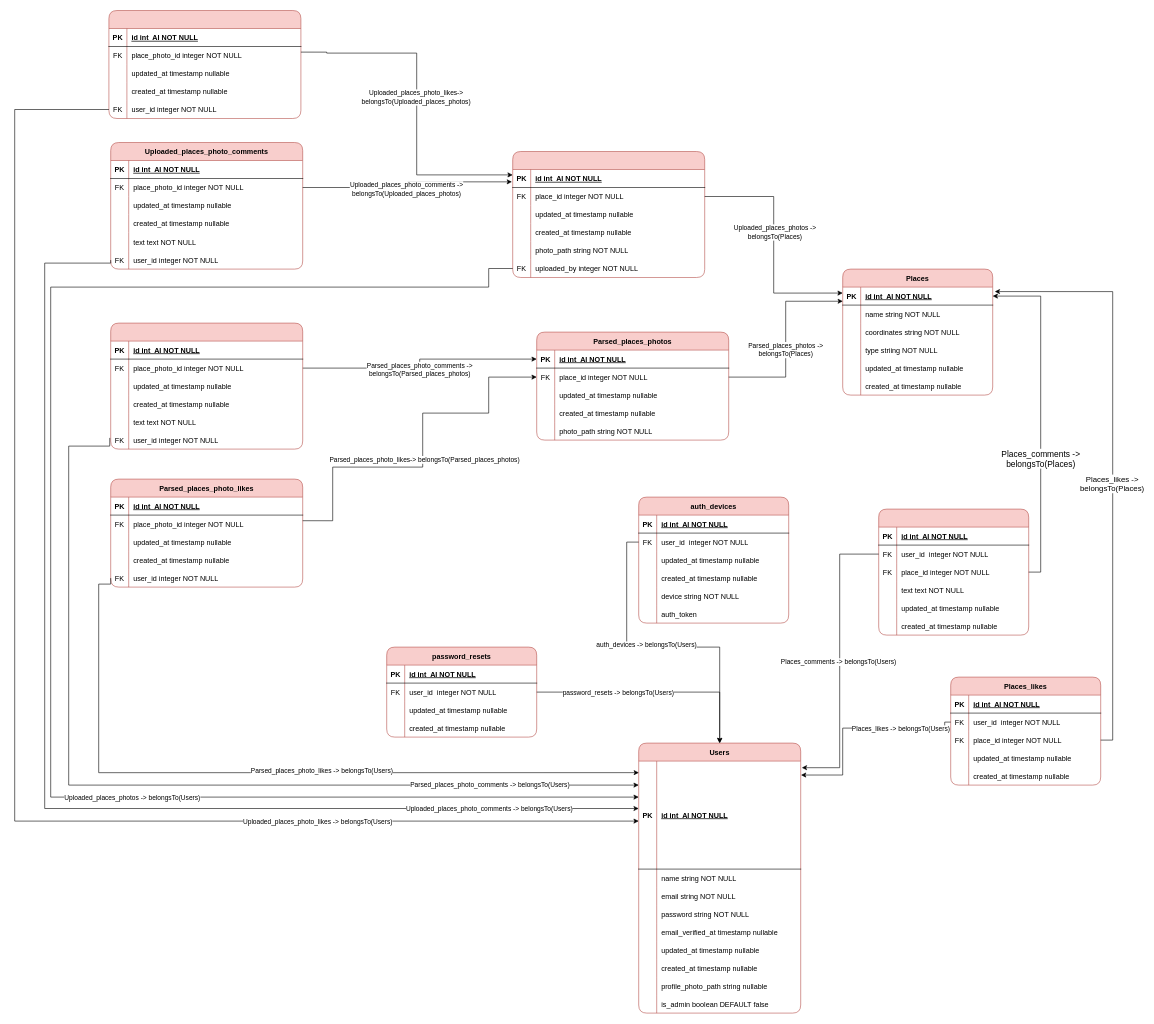
This 1154x1024 diagram has some shape labels left out. Here are the shapes that lost their labels. From the top down, the box of each, then its label:
(108, 10, 301, 118): Uploaded_places_photo_likes
(512, 151, 705, 278): Uploaded_places_photos
(110, 322, 303, 449): Parsed_places_photo_comments
(878, 508, 1029, 635): Places_comments
